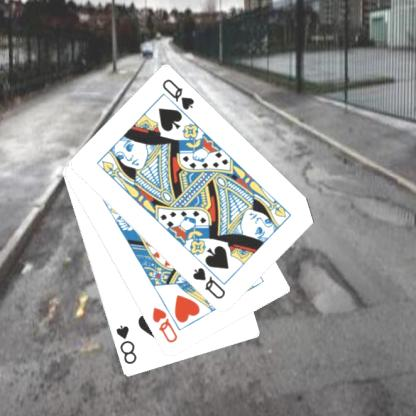8S: (115, 322, 140, 366)
QH: (151, 305, 181, 345)
QS: (161, 76, 198, 113), (192, 265, 228, 301)
